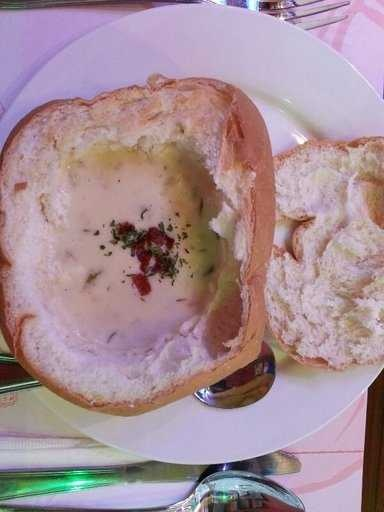soup: (6, 87, 315, 415)
